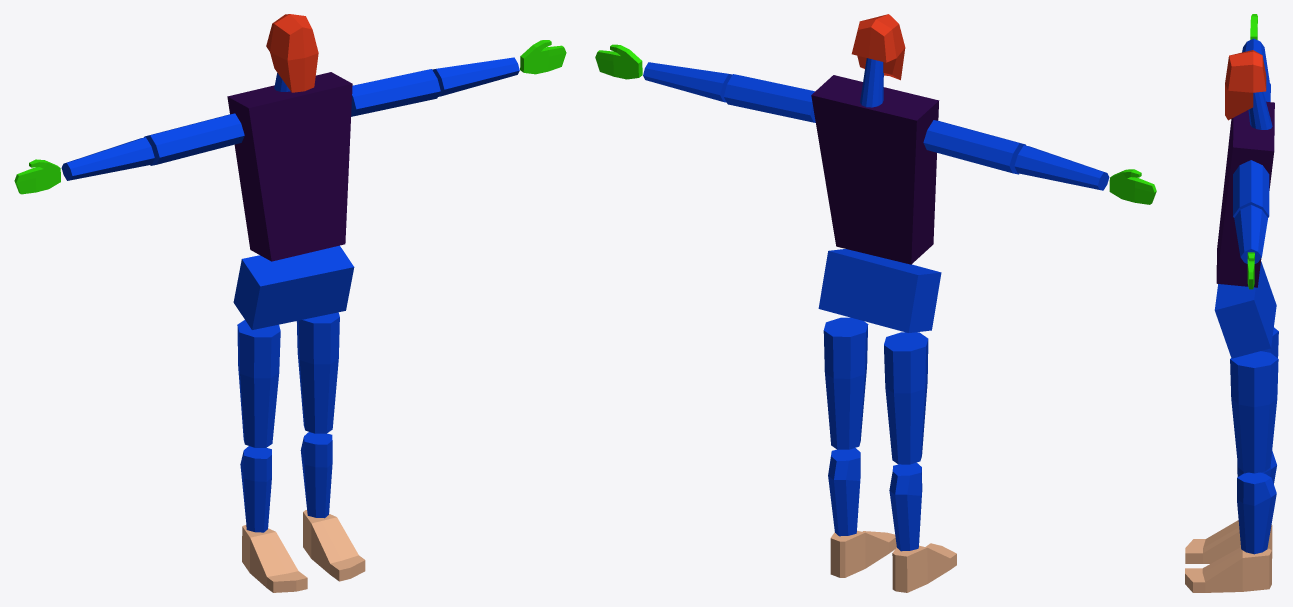
The model's file is blockman001.glb.
3 views of the same model, side by side, from view 1: azimuth 30°, elevation 25°; view 2: azimuth 150°, elevation 25°; view 3: azimuth 270°, elevation 25° (orthographic). The views are drawn at different scales.
Visible parts, largest first — view 1: Cube, Cube.003, Cube.001, Cube.006, Cube.005, Cube.004, Cube.008, Cube.007, Cube.009; view 2: Cube, Cube.003, Cube.001, Cube.006, Cube.004, Cube.005, Cube.008, Cube.009, Cube.007, Cylinder; view 3: Cube.003, Cube.005, Cube, Cube.001, Cube.004, Cube.007, Cube.006, Cube.008, Cylinder, Cube.009.
Boxes of the visible parts, x1,y1,x2,y2 form: Cube: (227, 72, 352, 261); Cube.003: (237, 312, 339, 447); Cube.001: (233, 245, 354, 329); Cube.006: (144, 69, 440, 165); Cube.005: (242, 510, 365, 592); Cube.004: (240, 432, 332, 532); Cube.008: (61, 57, 519, 180); Cube.007: (266, 14, 318, 92); Cube.009: (14, 40, 566, 194); Cube: (811, 75, 939, 264); Cube.003: (823, 317, 928, 464); Cube.001: (818, 249, 941, 332); Cube.006: (724, 74, 1025, 174); Cube.004: (828, 448, 922, 551); Cube.005: (830, 530, 956, 592); Cube.008: (643, 62, 1109, 190); Cube.009: (595, 44, 1156, 204); Cube.007: (851, 14, 905, 80); Cylinder: (860, 58, 883, 107); Cube.003: (1230, 327, 1278, 473); Cube.005: (1185, 520, 1272, 592); Cube: (1216, 101, 1274, 287); Cube.001: (1214, 261, 1276, 358); Cube.004: (1237, 451, 1276, 554); Cube.007: (1225, 50, 1266, 120); Cube.006: (1233, 78, 1270, 217); Cube.008: (1234, 38, 1269, 263); Cylinder: (1248, 92, 1272, 129); Cube.009: (1247, 14, 1257, 289).
Size of the model in its own units: 7.59 by 7.21 by 1.18.
